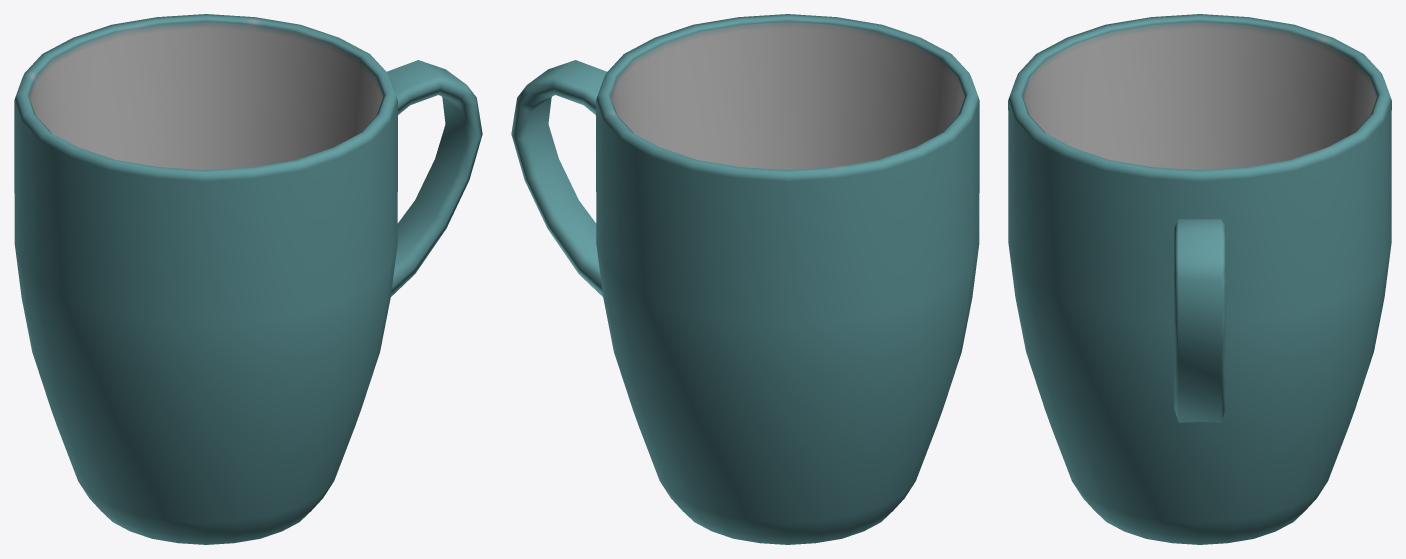
Rendered from pi_cup03_02.gltf.
3 views of the same model, side by side, from view 1: azimuth 30°, elevation 25°; view 2: azimuth 150°, elevation 25°; view 3: azimuth 270°, elevation 25° (orthographic).
Visible parts, largest first — view 1: pi_cup03_02_mesh_shape:pi_cup03_body; view 2: pi_cup03_02_mesh_shape:pi_cup03_body; view 3: pi_cup03_02_mesh_shape:pi_cup03_body.
Part boxes in pixels (left/top/right/bottom): pi_cup03_02_mesh_shape:pi_cup03_body: left=14, top=14, right=482, bottom=544; pi_cup03_02_mesh_shape:pi_cup03_body: left=511, top=14, right=979, bottom=544; pi_cup03_02_mesh_shape:pi_cup03_body: left=1008, top=14, right=1391, bottom=544.
Size of what is drawn, in the model's own units: 0.1489 by 0.1337 by 0.1146.
1 material, 1 textured.
